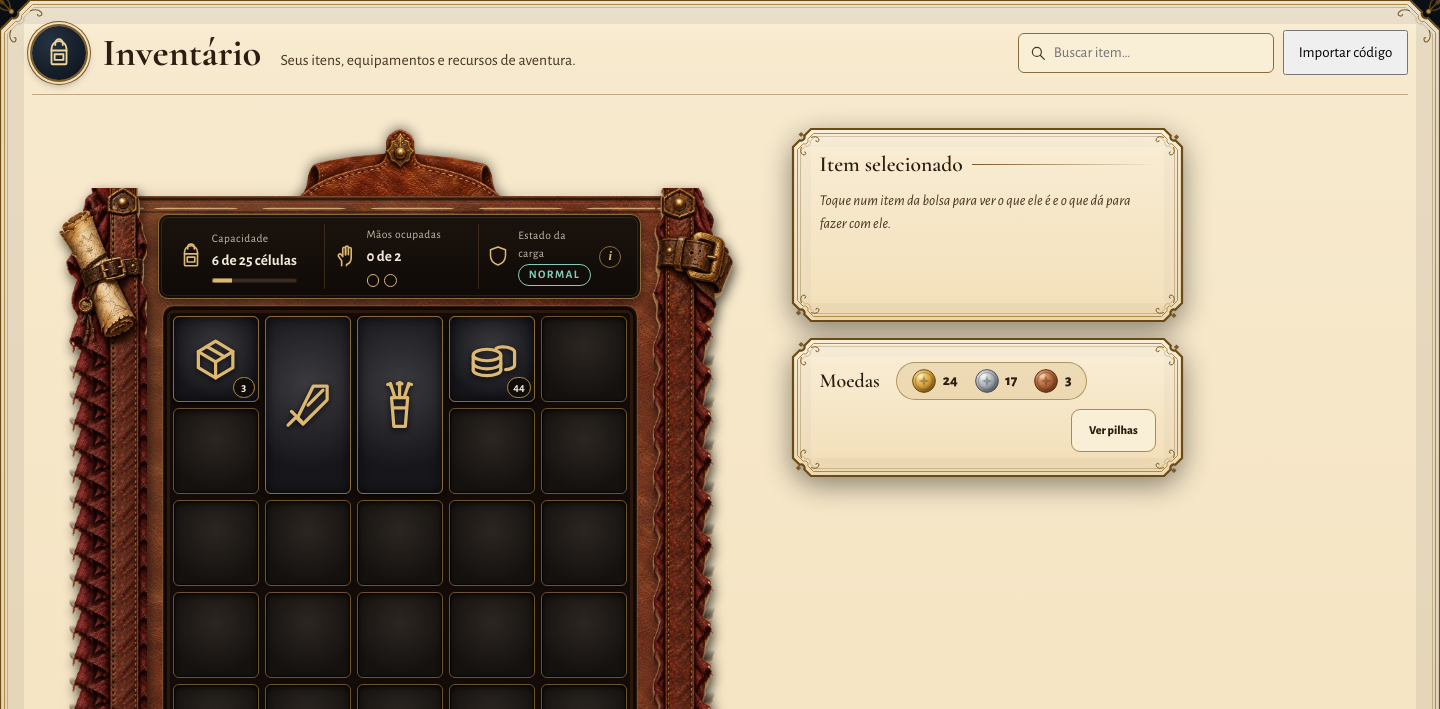
Test: Aba Inventário da ficha › modo leitura mostra o painel sem ações
Press the mouse on the button named "Adaga": (308, 405) x1=265 y1=316 x2=351 y2=494
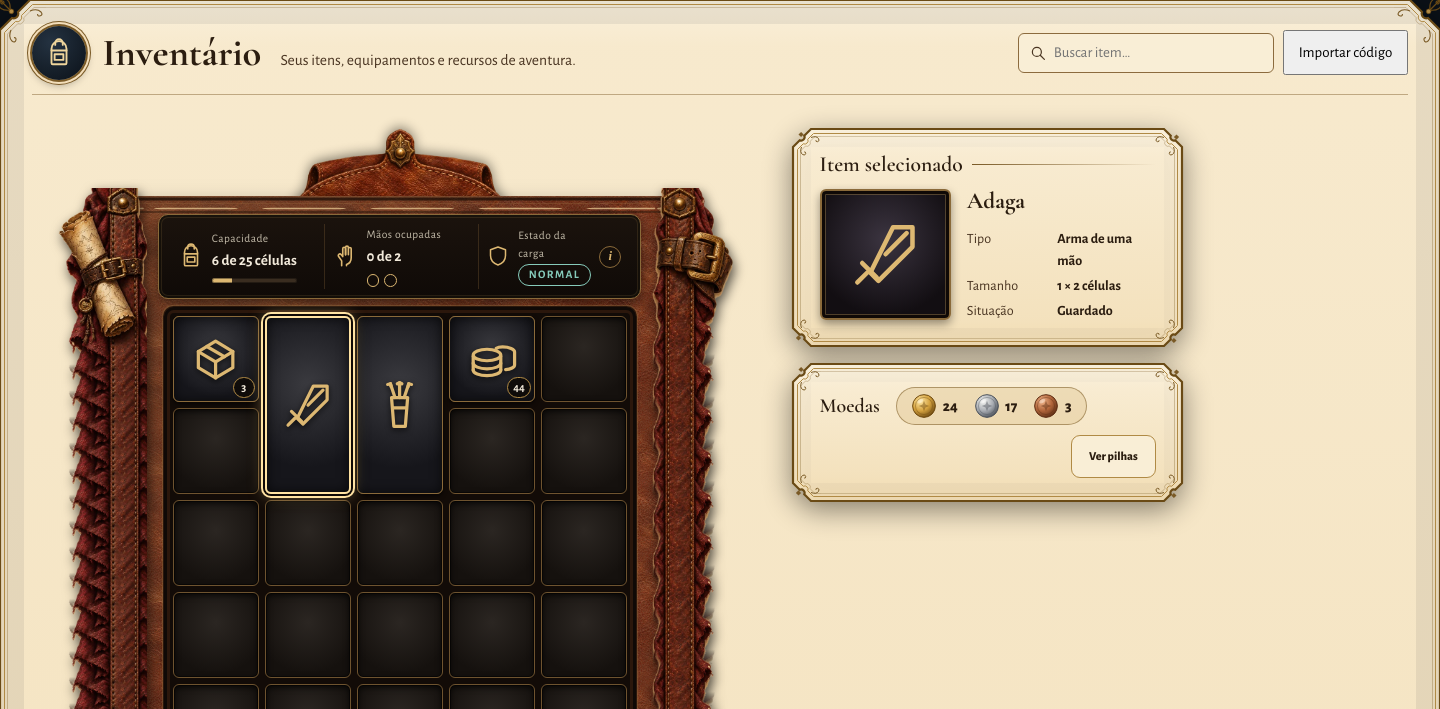
Check: the heading "Adaga" is shown, box x1=967 y1=187 x2=1025 y2=215
